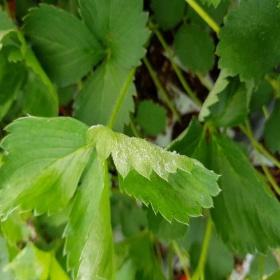Powdery Mildew Leaf: (84, 123, 223, 225)
